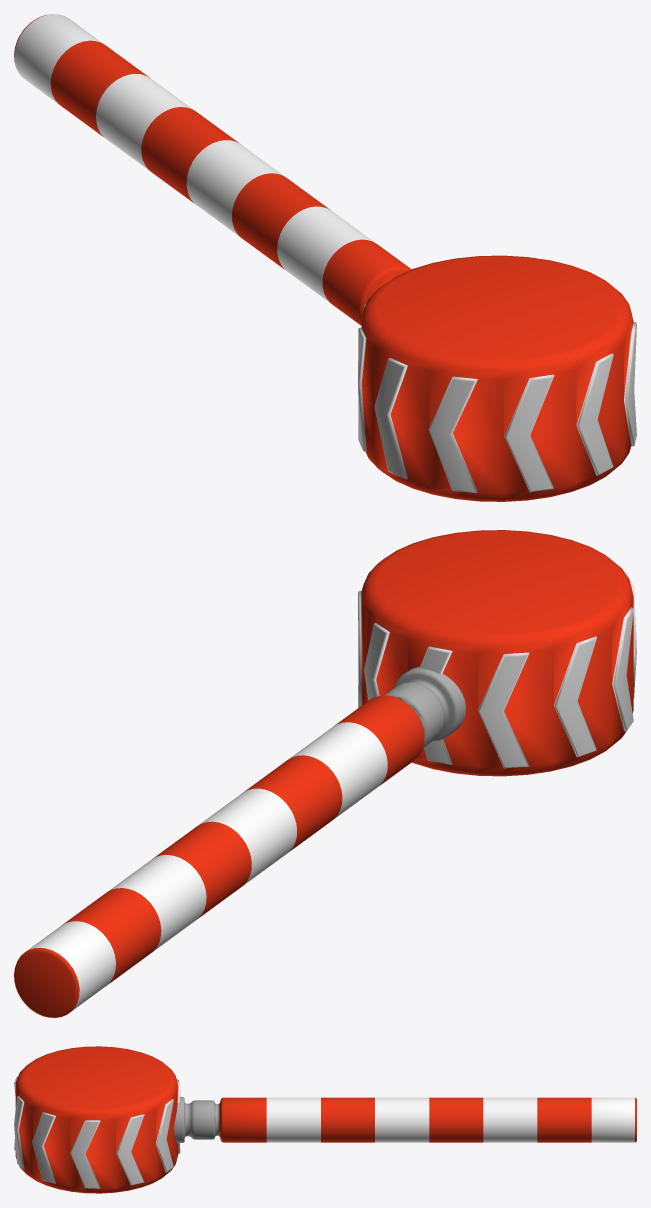
The model's file is trap_arrowtrap.glb.
3 views of the same model, one above another, from view 1: azimuth 30°, elevation 25°; view 2: azimuth 150°, elevation 25°; view 3: azimuth 270°, elevation 25° (orthographic). The views are drawn at different scales.
Parts seen in each view (by area): view 1: Cylinder.031_visual; view 2: Cylinder.031_visual; view 3: Cylinder.031_visual.
Boxes of the visible parts, x1,y1,x2,y2 form: Cylinder.031_visual: (14, 14, 636, 501); Cylinder.031_visual: (14, 530, 636, 1017); Cylinder.031_visual: (14, 1046, 636, 1193).
Size of what is drawn, in the model's own units: 2.79 by 1.56 by 10.42.
Materials: 2 (1 with a texture image).
